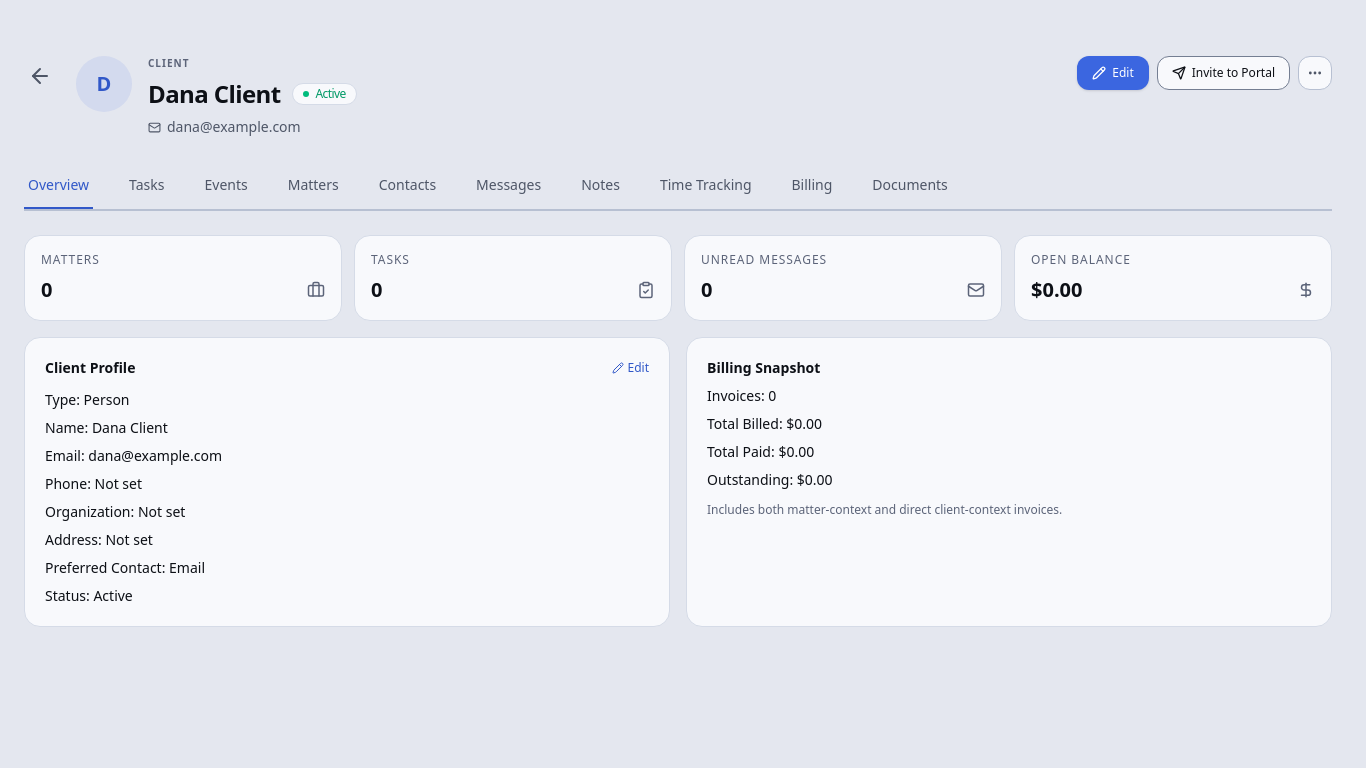
Scenario: a meaningful empty state › says the client has no tasks, rather than leaving the tab blank
Expected: the heading "Dana Client Active" is shown, [148,77,357,110]
Click the button "Tasks" at (147, 186), box [125,163,168,209]
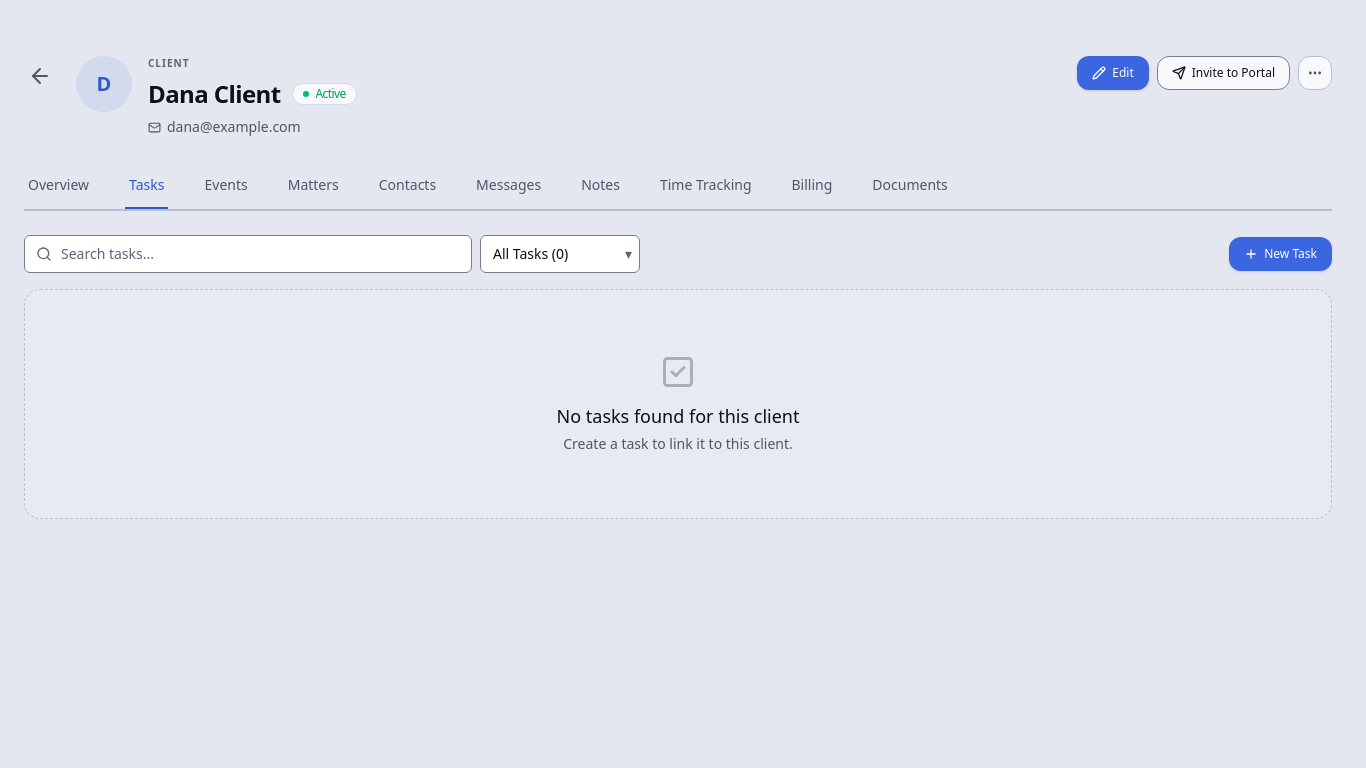
Expected: the text "No tasks found for this client" is shown, [556,404,799,428]
